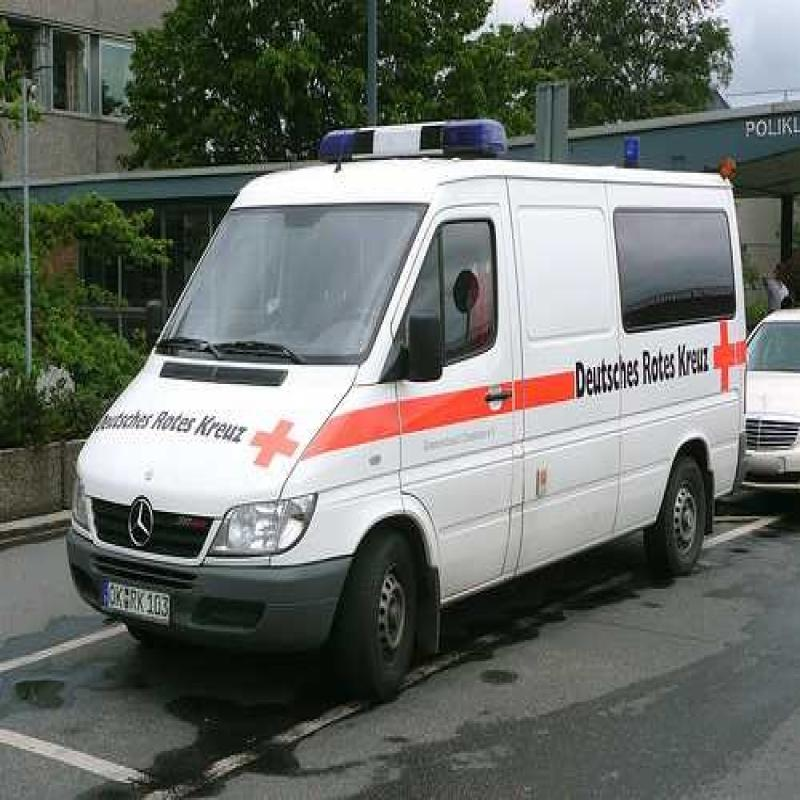AmbulanceSiren: (311, 100, 514, 169)
